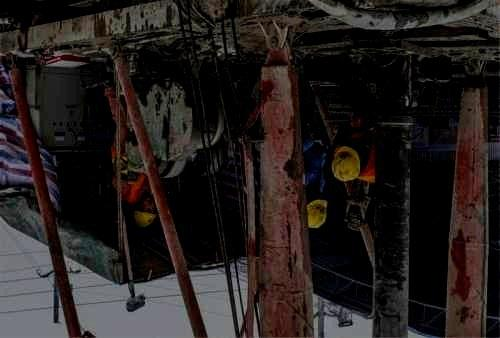helmet: (332, 146, 361, 182), (305, 185, 328, 229), (134, 192, 157, 228)
